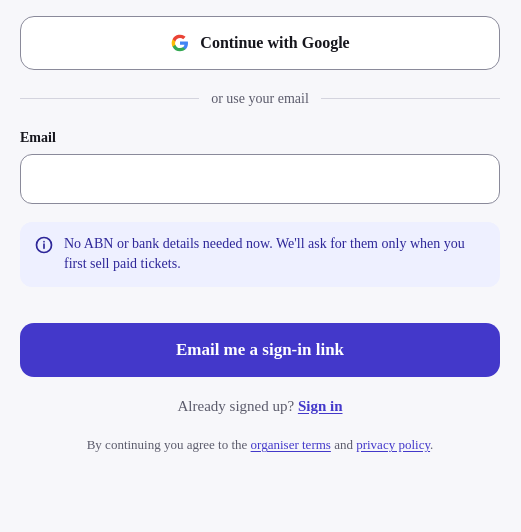
it: sign-in form with Turnstile › says so when the api rejects the check
The width and height of the screenshot is (521, 532).
In the field labelled "Email": [260, 179] box [20,154,500,204], type "mei@example.test"
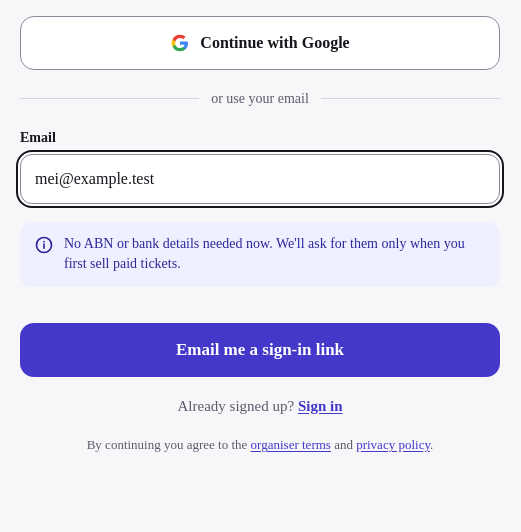
Click the button "Email me a sign-in link": [260, 350] box [20,323,500,377]
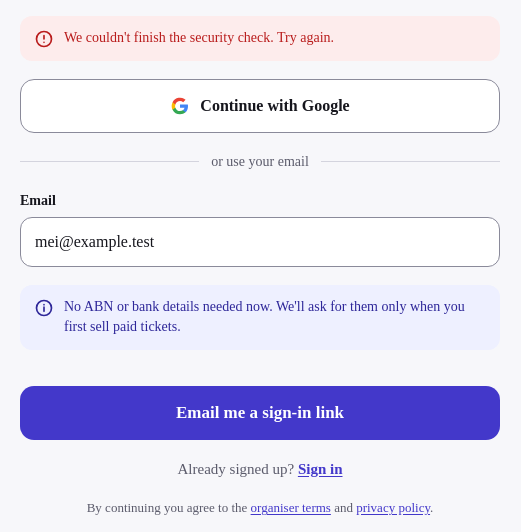
Now the message reads "We couldn't finish the security check. Try again.", box [64,30,334,45]
